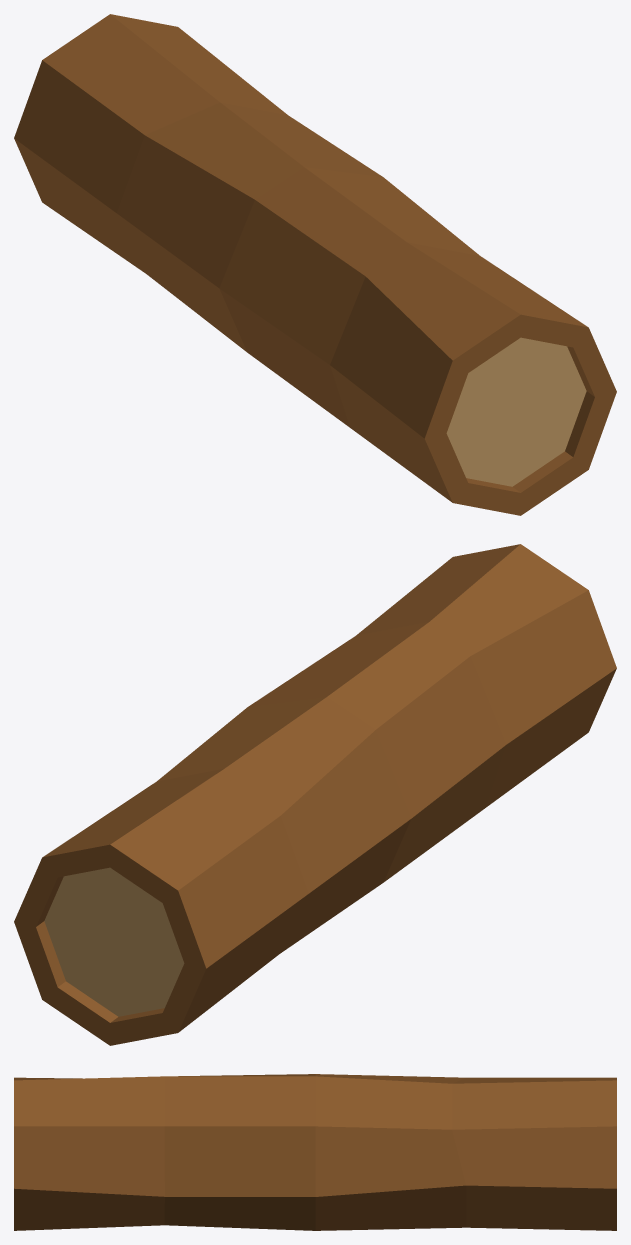
Rendered from logkayu1.fbx.
3 views of the same model, one above another, from view 1: azimuth 30°, elevation 25°; view 2: azimuth 150°, elevation 25°; view 3: azimuth 270°, elevation 25° (orthographic). The views are drawn at different scales.
Visible parts, largest first — view 1: log_8a; view 2: log_8a; view 3: log_8a.
Boxes of the visible parts, x1,y1,x2,y2 form: log_8a: (14,14,616,515); log_8a: (14,544,616,1045); log_8a: (14,1074,616,1230).
Size of the model in its own units: 53.77 by 53.18 by 197.
